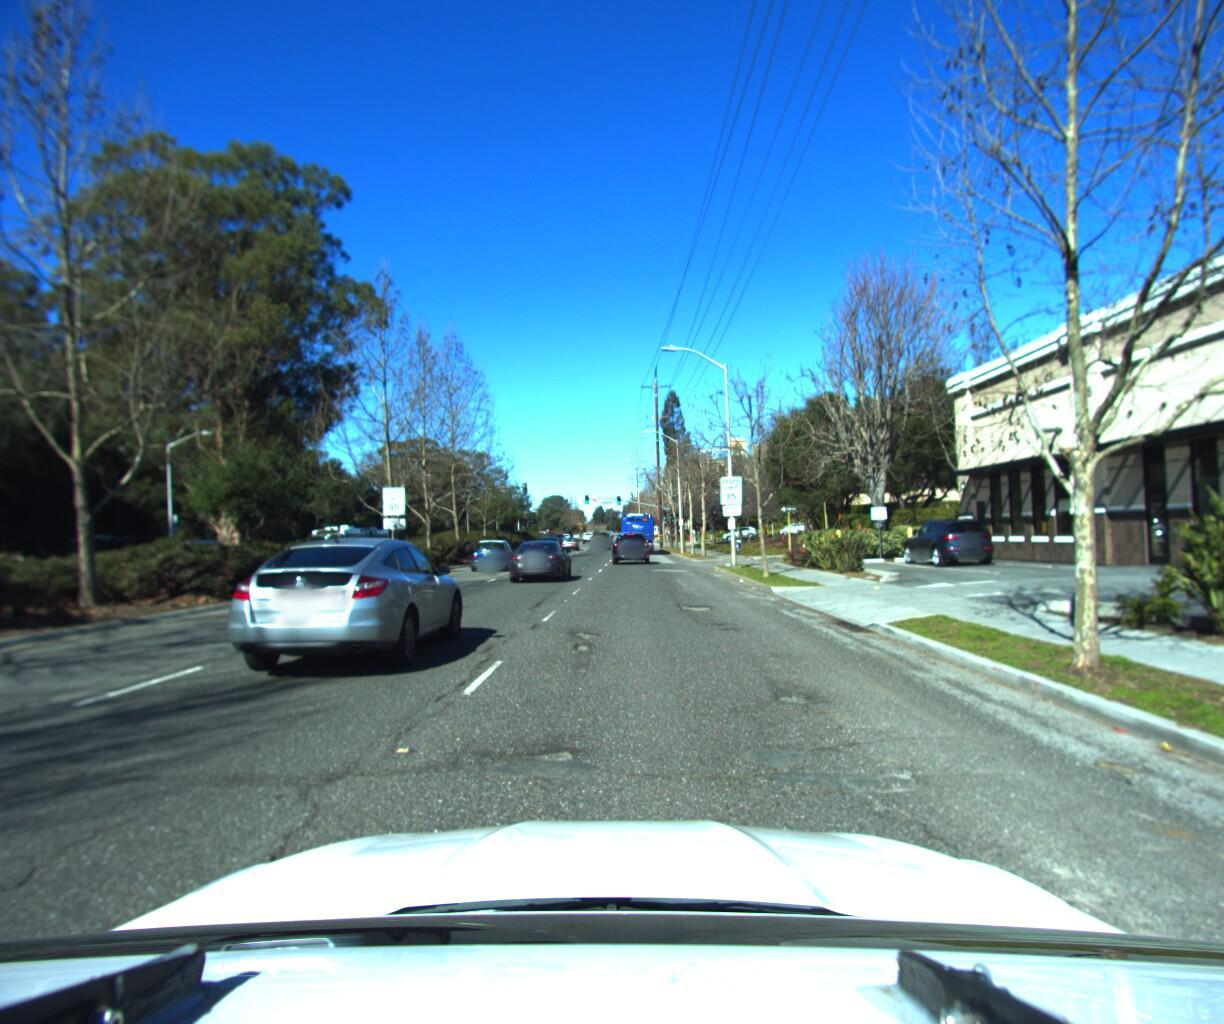bus: (305, 520, 397, 559), (616, 506, 657, 550)
car: (205, 525, 476, 680), (895, 510, 1003, 563), (506, 535, 573, 581), (469, 533, 521, 569), (610, 527, 652, 562), (556, 528, 582, 548), (591, 528, 613, 547)
